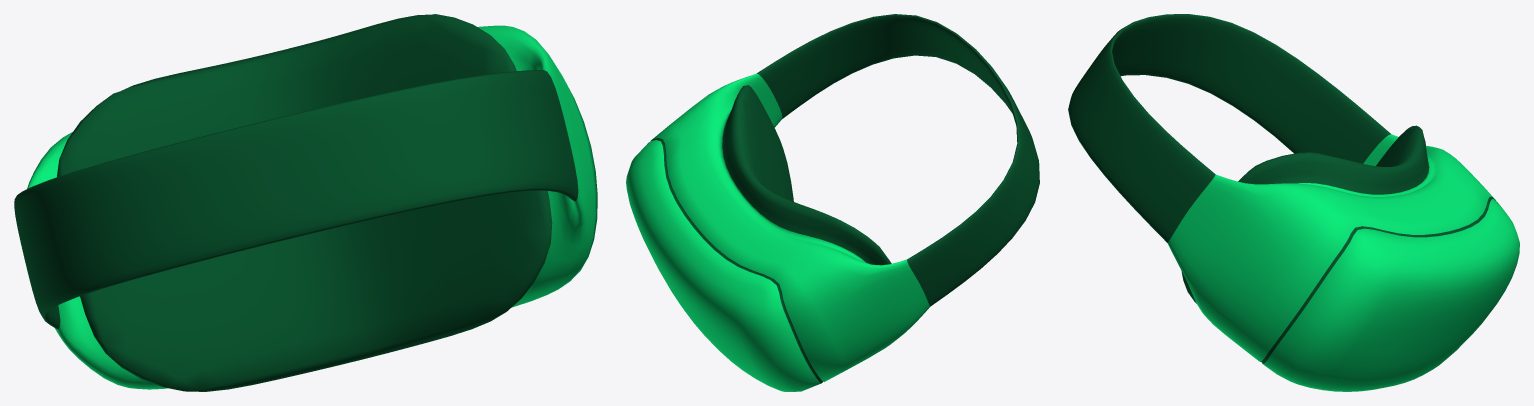
File: icon_vr.glb
3 views of the same model, side by side, from view 1: azimuth 30°, elevation 25°; view 2: azimuth 150°, elevation 25°; view 3: azimuth 270°, elevation 25° (orthographic). The views are drawn at different scales.
Parts seen in each view (by area): view 1: icon_vr1; view 2: icon_vr1; view 3: icon_vr1.
Boxes of the visible parts, left/top/right/bottom form: icon_vr1: left=14, top=14, right=597, bottom=391; icon_vr1: left=626, top=14, right=1039, bottom=391; icon_vr1: left=1068, top=14, right=1519, bottom=391.
Bounding box in the file's own units: 0.31 × 0.2285 × 0.301.
